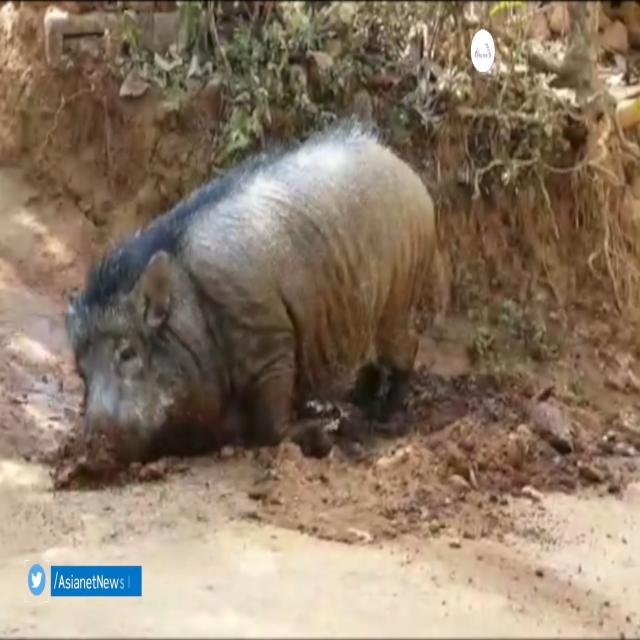WILD BOAR: (45, 109, 451, 473)
